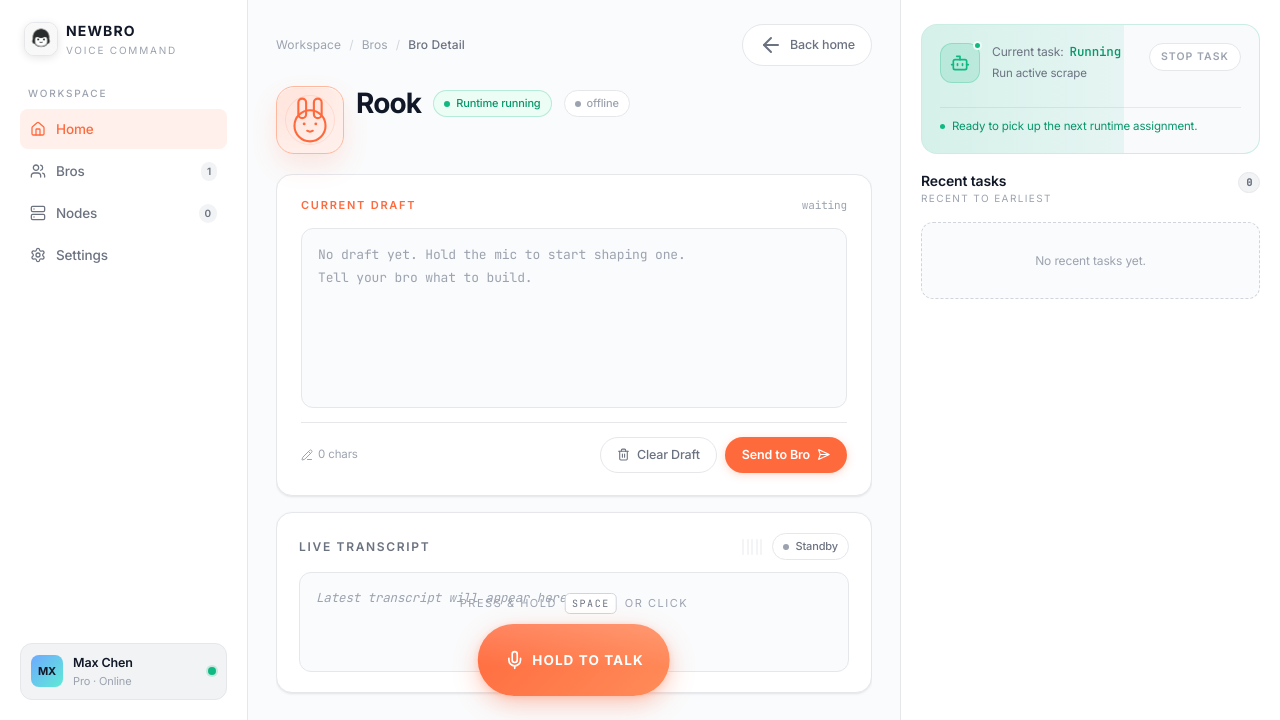
Newbro voice shell › keeps the current task visible when Stop Task fails
Step 1. Click the button "Stop Task" → (1195, 57), box [1149,43,1241,71]
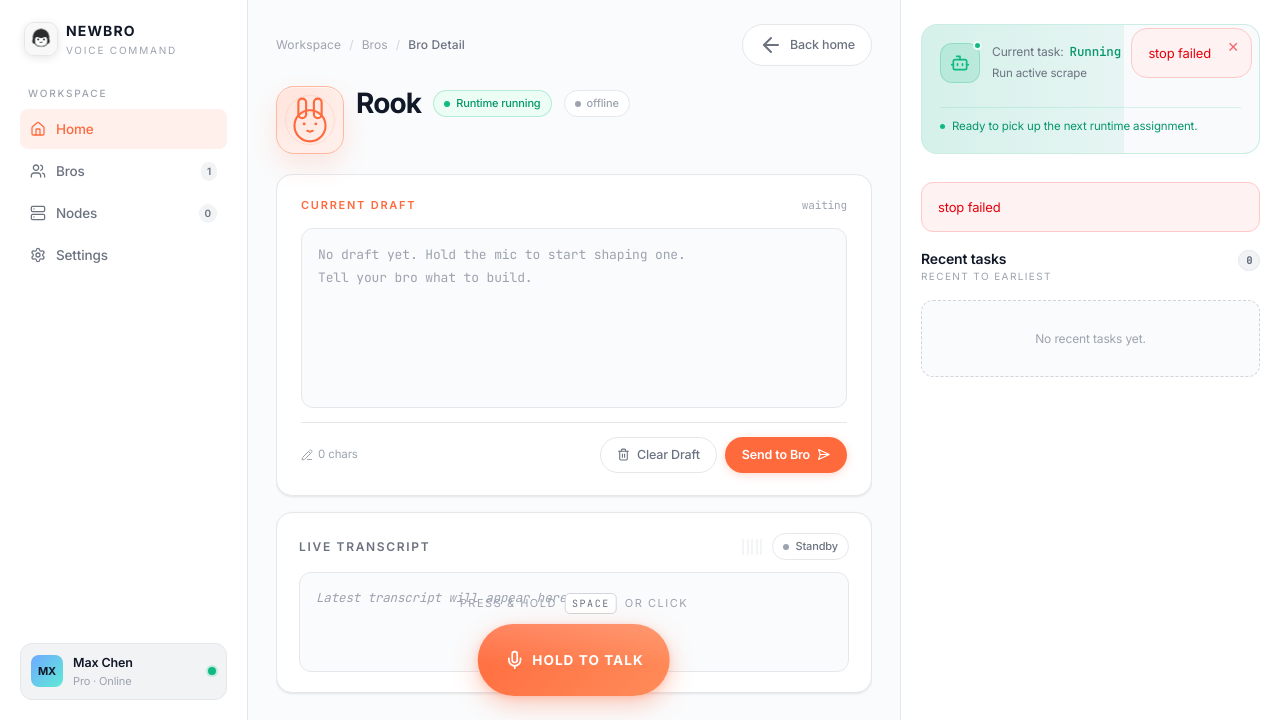
Expected: the text "Run active scrape" is shown, [992,66,1087,80]
Result: the text "stop failed" is shown at [921,182,1260,232]
